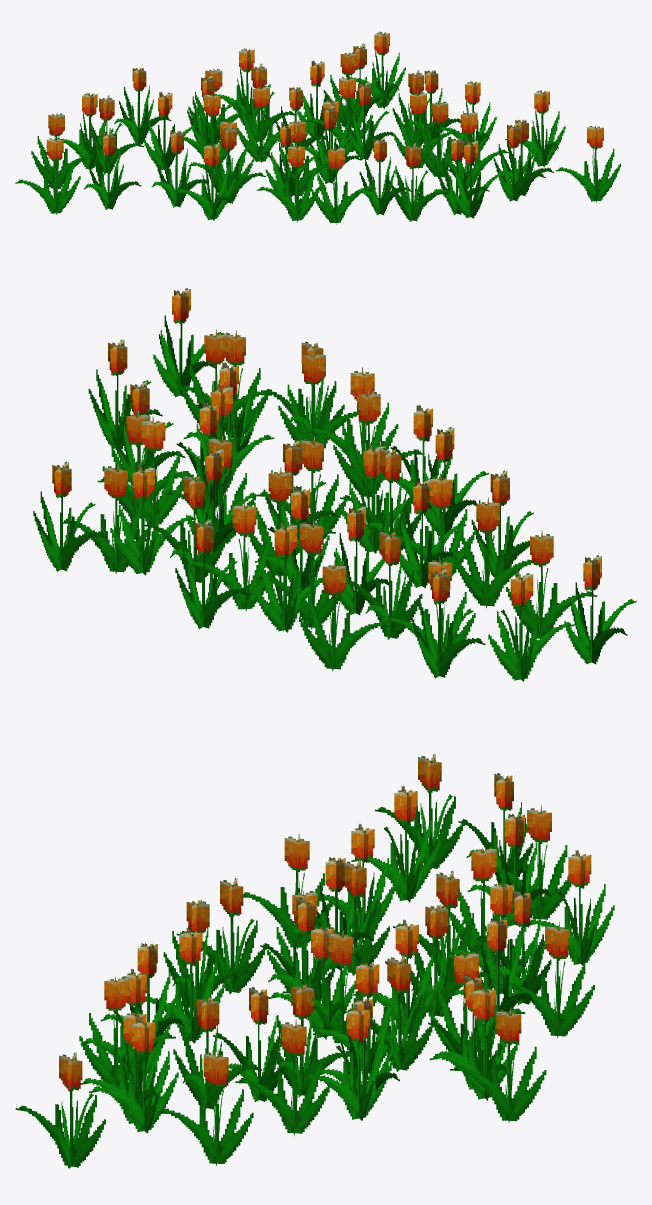
File: HTOWN01_TULIPORANG01.fbx
3 views of the same model, one above another, from view 1: azimuth 30°, elevation 25°; view 2: azimuth 150°, elevation 25°; view 3: azimuth 270°, elevation 25° (orthographic). The views are drawn at different scales.
Visible parts, largest first — view 1: HTOWN01_TULIPORANG01; view 2: HTOWN01_TULIPORANG01; view 3: HTOWN01_TULIPORANG01.
Part boxes in pixels (box(x1,y1,x2,y2)): HTOWN01_TULIPORANG01: box(15, 31, 620, 224); HTOWN01_TULIPORANG01: box(33, 288, 636, 681); HTOWN01_TULIPORANG01: box(15, 754, 614, 1168).
Bounding box in the file's own units: 33146 × 5000 × 25164.
1 material, 1 textured.
